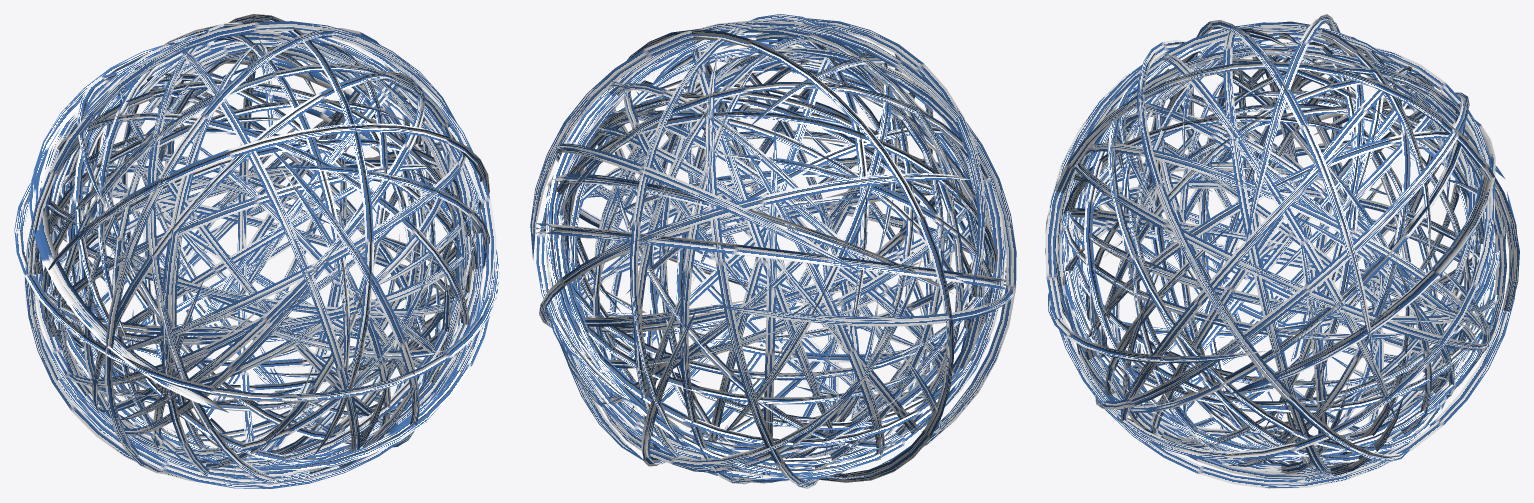
File: Rui_Dome4.fbx
3 renders of one model, left to right at view 1: azimuth 30°, elevation 25°; view 2: azimuth 150°, elevation 25°; view 3: azimuth 270°, elevation 25°, orthographic. The views are drawn at different scales.
Parts seen in each view (by area): view 1: SM_e_Plc_P1007_Dome004; view 2: SM_e_Plc_P1007_Dome004; view 3: SM_e_Plc_P1007_Dome004.
Boxes of the visible parts, left/top/right/bottom form: SM_e_Plc_P1007_Dome004: left=14, top=14, right=500, bottom=488; SM_e_Plc_P1007_Dome004: left=530, top=14, right=1016, bottom=488; SM_e_Plc_P1007_Dome004: left=1045, top=14, right=1519, bottom=488.
Size of the model in its own units: 518 by 516 by 511.
